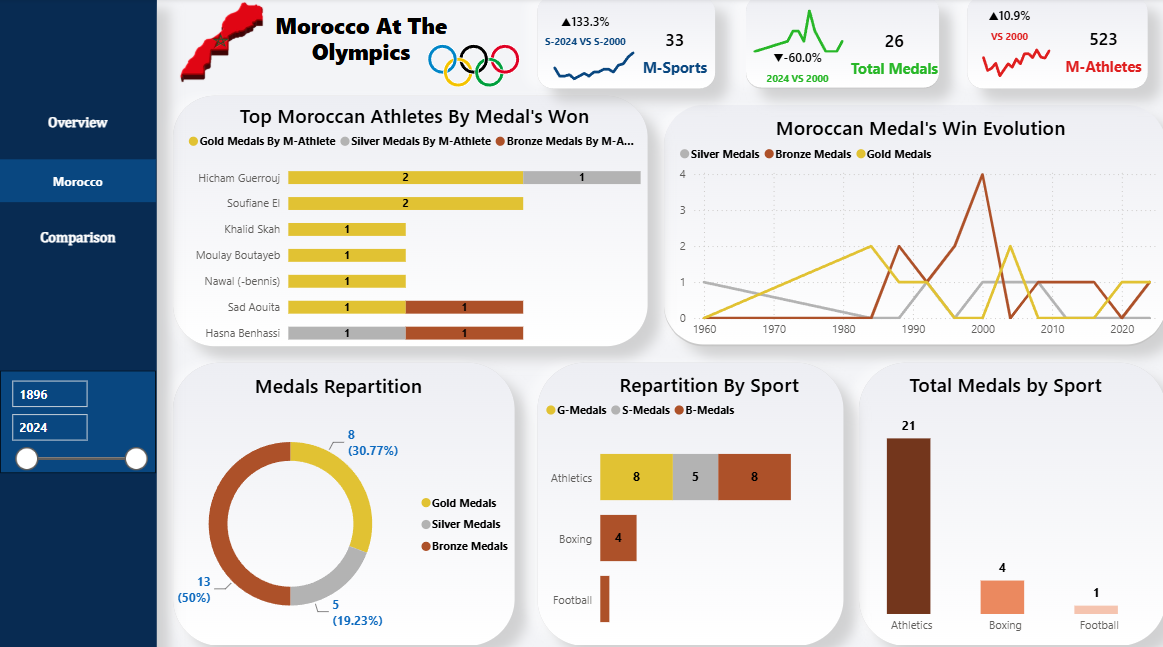

This screenshot's page, from the dashboard's own definition file:
{"tool":"powerbi","page":{"name":"Morocco","canvas":[1280,720],"ordinal":1},"visuals":[{"type":"pageNavigator","box":[0,113.9,171.5,174.3],"z":0},{"type":"donutChart","title":"Medals Repartition","fields":{"Y":["medal_table_summary.Gold Medals","medal_table_summary.Silver Medals","medal_table_summary.Bronze Medals"]},"box":[171.4,410,400,310],"z":1000},{"type":"lineChart","title":"Moroccan Medal''s Win Evolution","fields":{"Category":["Dim_Year.Year"],"Y":["medal_table_summary.Silver Medals","medal_table_summary.Bronze Medals","medal_table_summary.Gold Medals"]},"box":[741,127.6,539.3,253.9],"z":2000},{"type":"barChart","title":"Repartition By Sport","fields":{"Category":["olympics_dataset_forbi.Sport"],"Y":["medal_table_summary.G-Medals","medal_table_summary.S-Medals","medal_table_summary.B-Medals"]},"box":[594.6,409.5,368.9,310.8],"z":3000},{"type":"clusteredColumnChart","fields":{"Category":["olympics_dataset_forbi.Sport"],"Y":["medal_table_summary.Total Medals"]},"box":[927,409.5,352.7,297.3],"z":4000},{"type":"card","fields":{"Values":["olympics_dataset_forbi.M-Athletes"]},"box":[1159,0,104,114],"z":5000},{"type":"lineChart","fields":{"Category":["Dim_Year.Year"],"Y":["olympics_dataset_forbi.M-Athletes"]},"box":[1065,34,120,62],"z":6000},{"type":"lineChart","fields":{"Category":["Dim_Year.Year"],"Y":["medal_table_summary.Total Medals"]},"box":[813.3,0,150,65],"z":7000},{"type":"card","fields":{"Values":["medal_table_summary.Total Medals"]},"box":[927.5,18.8,108.3,80],"z":8000},{"type":"card","fields":{"Values":["olympics_dataset_forbi.M-Sports"]},"box":[691.2,26.2,98.8,63.8],"z":9000},{"type":"lineChart","fields":{"Category":["Dim_Year.Year"],"Y":["olympics_dataset_forbi.M-Sports"]},"box":[593.8,32.5,137.5,65],"z":10000},{"type":"slicer","fields":{"Values":["Dim_Year.Year"]},"box":[0,408.9,171.2,112.5],"z":11000},{"type":"barChart","title":"Top Moroccan Athletes By Medal''s Won","fields":{"Category":["olympics_dataset_forbi.Name"],"Y":["olympics_dataset_forbi.Gold Medals By M-Athlete","olympics_dataset_forbi.Silver Medals By M-Athlete","olympics_dataset_forbi.Bronze Medals By M-Athlete"]},"box":[201.4,113.5,506.8,278.4],"z":12000},{"type":"card","fields":{"Values":["medal_table_summary.Medals Change Display"]},"box":[836,49,80,50],"z":13000},{"type":"card","fields":{"Values":["medal_table_summary.VS 2000"]},"box":[1067.1,0,81.4,57.1],"z":14000},{"type":"card","fields":{"Values":["medal_table_summary.S-2024 VS S-2000"]},"box":[593.3,5.6,100,58.6],"z":15000}]}

Visuals, with their boxes on the page's 1280x720 design canvas (x1, y1, x2, y2). These are canvas units, not pixel positions in the 1163x647 screenshot, which may show the page scaled, cropped or inside an application window:
pageNavigator: [x1=0, y1=114, x2=172, y2=288]
"Medals Repartition" donutChart: [x1=171, y1=410, x2=571, y2=720]
"Moroccan Medal''s Win Evolution" lineChart: [x1=741, y1=128, x2=1280, y2=382]
"Repartition By Sport" barChart: [x1=595, y1=410, x2=964, y2=720]
clusteredColumnChart - olympics_dataset_forbi.Sport x medal_table_summary.Total Medals: [x1=927, y1=410, x2=1280, y2=707]
card - olympics_dataset_forbi.M-Athletes: [x1=1159, y1=0, x2=1263, y2=114]
lineChart - Dim_Year.Year x olympics_dataset_forbi.M-Athletes: [x1=1065, y1=34, x2=1185, y2=96]
lineChart - Dim_Year.Year x medal_table_summary.Total Medals: [x1=813, y1=0, x2=963, y2=65]
card - medal_table_summary.Total Medals: [x1=928, y1=19, x2=1036, y2=99]
card - olympics_dataset_forbi.M-Sports: [x1=691, y1=26, x2=790, y2=90]
lineChart - Dim_Year.Year x olympics_dataset_forbi.M-Sports: [x1=594, y1=32, x2=731, y2=98]
slicer - Dim_Year.Year: [x1=0, y1=409, x2=171, y2=521]
"Top Moroccan Athletes By Medal''s Won" barChart: [x1=201, y1=114, x2=708, y2=392]
card - medal_table_summary.Medals Change Display: [x1=836, y1=49, x2=916, y2=99]
card - medal_table_summary.VS 2000: [x1=1067, y1=0, x2=1148, y2=57]
card - medal_table_summary.S-2024 VS S-2000: [x1=593, y1=6, x2=693, y2=64]
